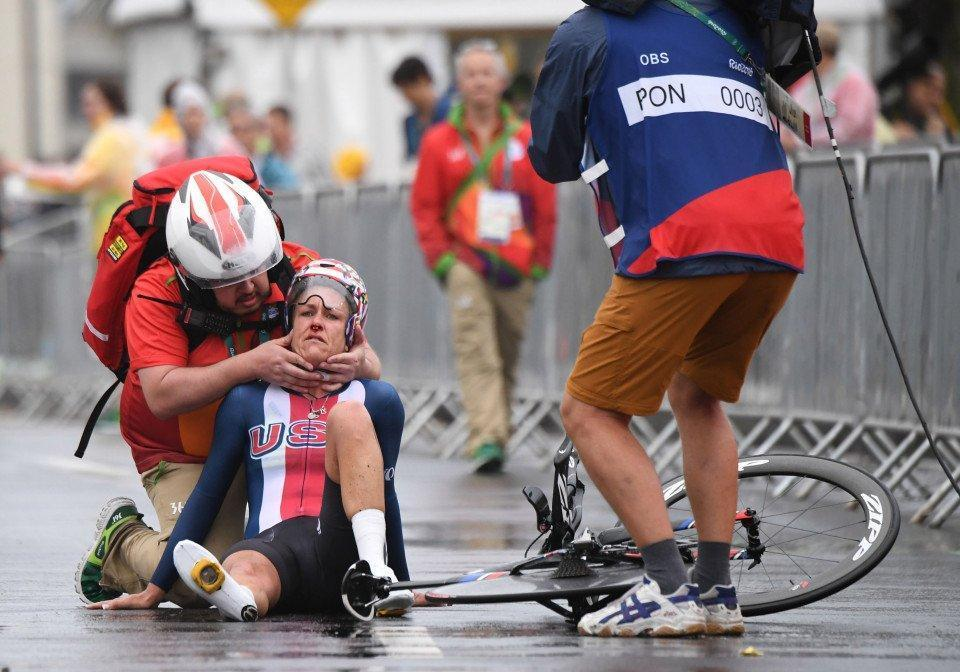Fall-Detected: (88, 238, 445, 637)
